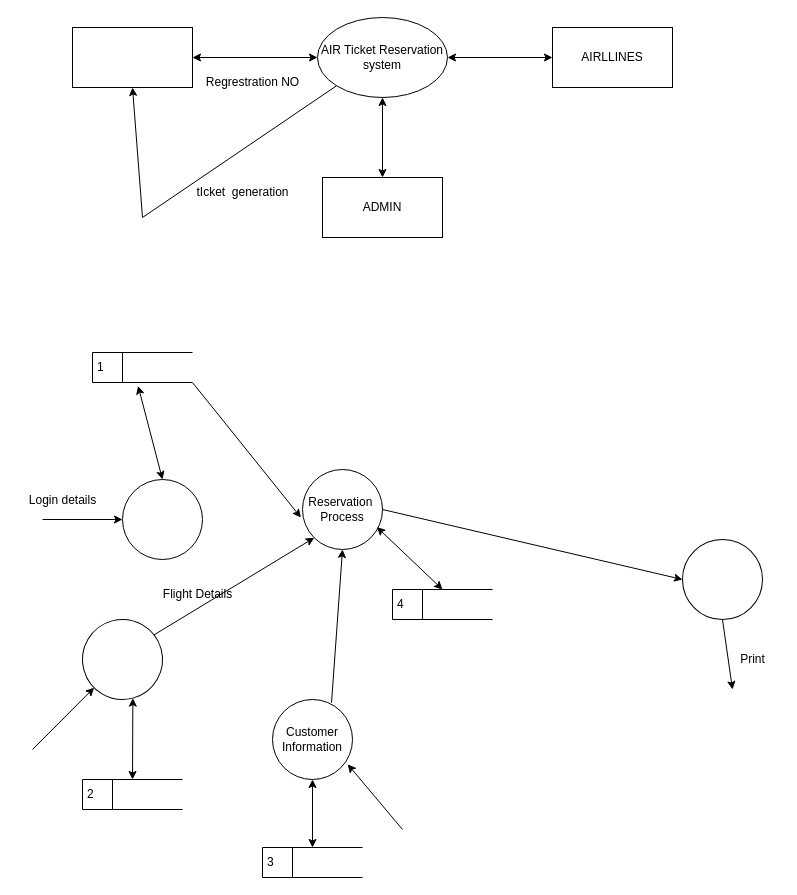
Image size: 797x895. Some labels were removed from this diagram. Each missing label, with the centre of its shape:
"LOGIN" goes at pixel 162 519.
"Manage Flight Details" goes at pixel 122 659.
"Payment & Details" goes at pixel 722 579.
"USER" goes at pixel 132 57.
